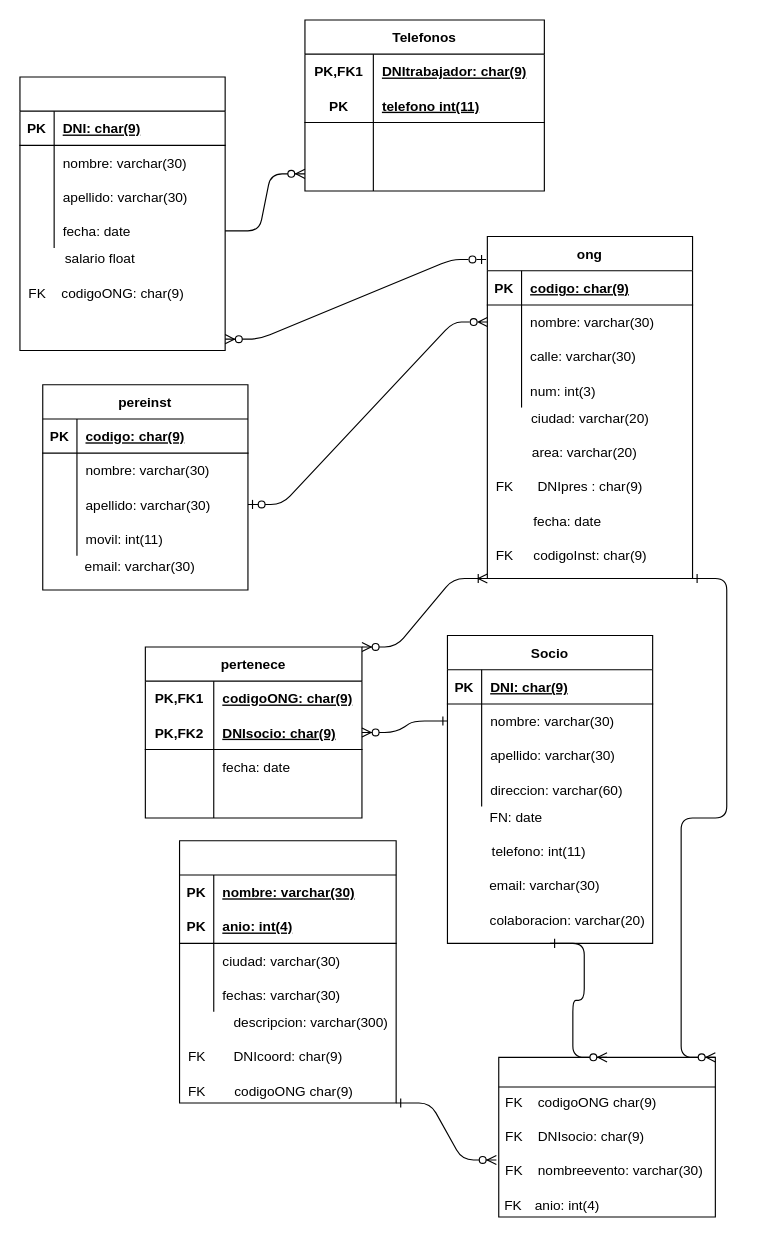
Image size: 757x1237. Some labels were removed from this diagram. The box of each missing label's shape, as (x1, y1, x2, y2) in pixels:
Evento: (178, 840, 396, 1103)
organizan: (498, 1056, 715, 1217)
Trabajador: (19, 76, 225, 351)
